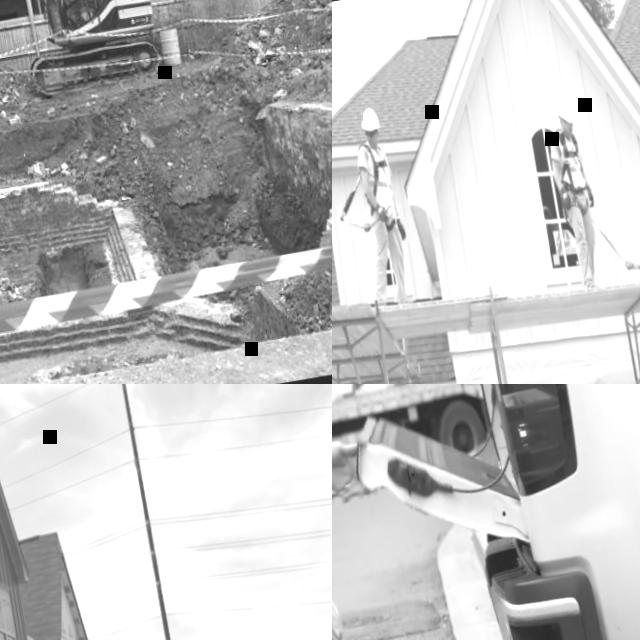Hardhat: (554, 94, 576, 124), (359, 106, 381, 132)
NO-Mask: (368, 136, 377, 148), (564, 125, 573, 136)
Person: (332, 384, 405, 640), (344, 105, 419, 309), (539, 92, 609, 290)
Safety Vest: (357, 137, 398, 223), (551, 126, 587, 190)
vehicle: (332, 384, 640, 640), (0, 0, 168, 136)
